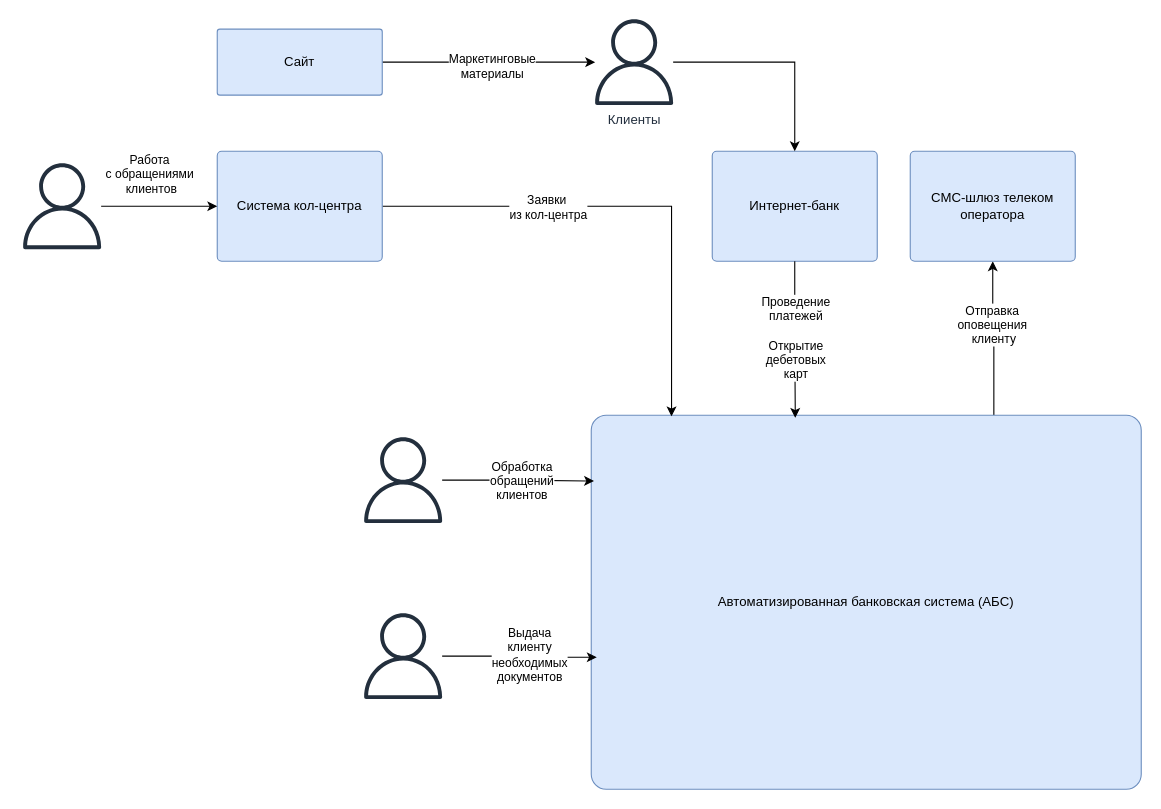
Some shapes in this 1161 by 809 pixel diagram are drawn without their labels. The shapes that lost their labels are listed below. From the top down, each one's centre as x and y in pixels, then its label:
[62,206]: Сотрудник кол-центра
[403,479]: Сотрудник бэк-офиса
[403,655]: Сотрудник фронт-офиса
